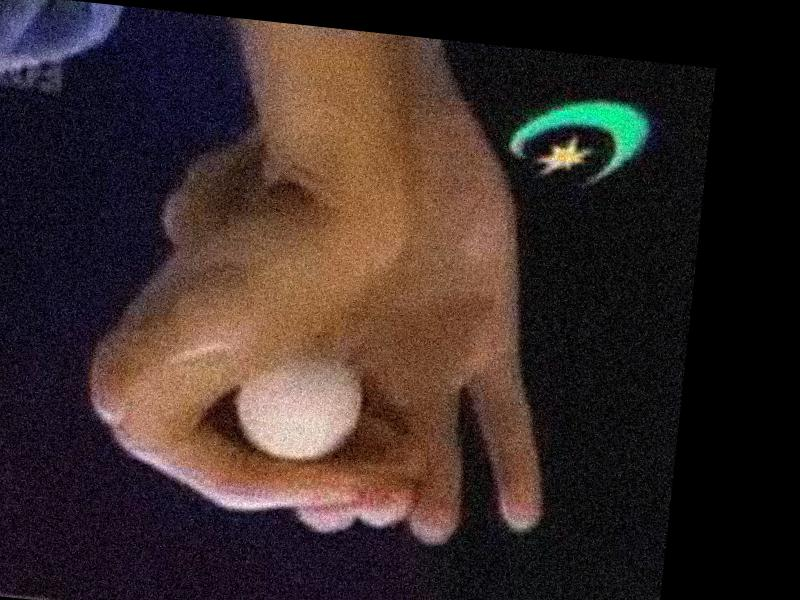Eggs: (227, 357, 366, 469)
